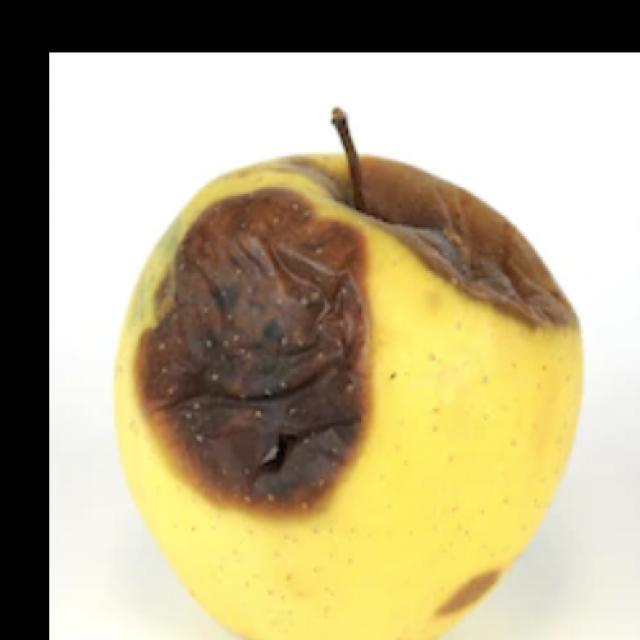Rotten: (120, 145, 582, 640)
